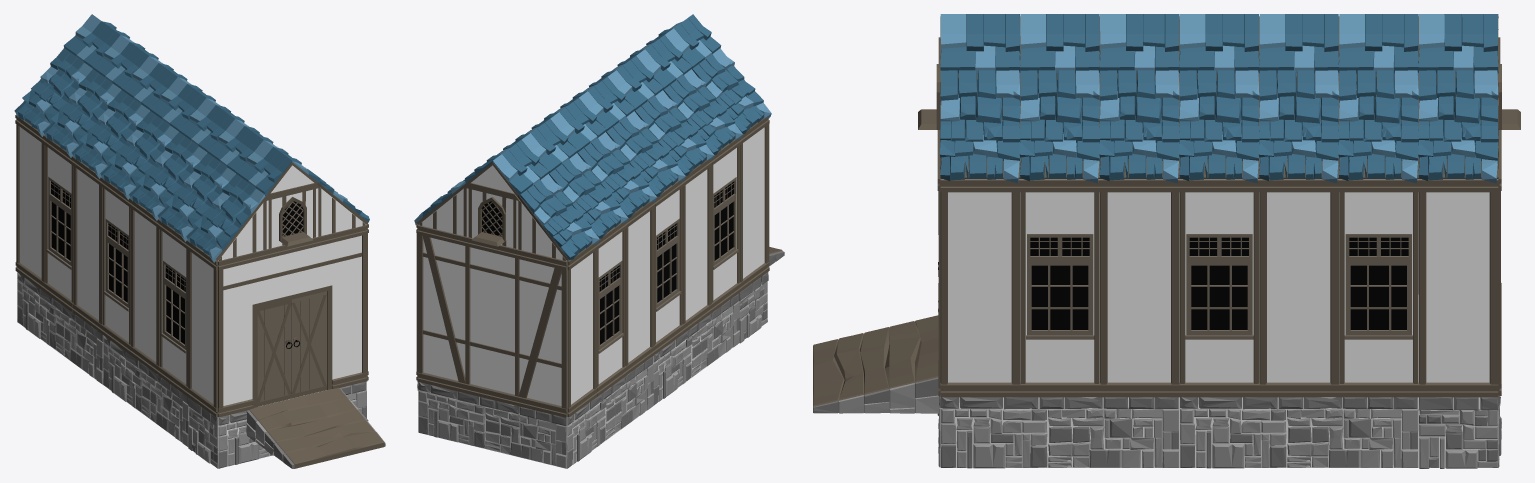
Rendered from House_04_full.fbx.
3 views of the same model, side by side, from view 1: azimuth 30°, elevation 25°; view 2: azimuth 150°, elevation 25°; view 3: azimuth 270°, elevation 25° (orthographic). The views are drawn at different scales.
Parts seen in each view (by area): view 1: DOOR_03_2, STAIRS_05_3, WALL_03_7, WALL_03_9, WALL_03_10, WINDOW_04_7, WINDOW_04_8, WALL_03_8, WINDOW_04_6, FOUNDATION_02_16, FOUNDATION_02_15, ROOF_base_16 (+20 smaller); view 2: WALL_02_2, FOUNDATION_02_17, WALL_03_10, WALL_03_8, WALL_03_9, WALL_03_7, WINDOW_04_8, WINDOW_04_7, FOUNDATION_02_16, WINDOW_04_6, FOUNDATION_02_15, ROOF_base_10 (+19 smaller); view 3: WINDOW_04_4, WALL_03_3, WALL_03_6, WALL_03_5, WINDOW_04_5, WINDOW_04_3, WALL_03_4, FOUNDATION_02_18, FOUNDATION_02_19, STAIRS_05_3, ROOF_base_9, ROOF_base_6 (+15 smaller).
Boxes of the visible parts, x1,y1,x2,y2 form: DOOR_03_2: [218, 225, 367, 417]; STAIRS_05_3: [246, 387, 385, 468]; WALL_03_7: [187, 240, 217, 417]; WALL_03_9: [72, 156, 102, 332]; WALL_03_10: [15, 114, 45, 291]; WINDOW_04_7: [101, 177, 131, 354]; WINDOW_04_8: [44, 136, 73, 312]; WALL_03_8: [130, 198, 159, 374]; WINDOW_04_6: [158, 219, 188, 395]; FOUNDATION_02_16: [17, 272, 103, 384]; FOUNDATION_02_15: [103, 335, 189, 446]; ROOF_base_16: [186, 174, 267, 262]; WALL_02_2: [417, 225, 567, 417]; FOUNDATION_02_17: [418, 382, 566, 468]; WALL_03_10: [567, 243, 597, 417]; WALL_03_8: [682, 159, 712, 333]; WALL_03_9: [625, 201, 654, 374]; WALL_03_7: [740, 117, 769, 291]; WINDOW_04_8: [596, 222, 626, 396]; WINDOW_04_7: [654, 180, 683, 354]; FOUNDATION_02_16: [566, 356, 653, 468]; WINDOW_04_6: [711, 138, 741, 312]; FOUNDATION_02_15: [653, 293, 739, 405]; ROOF_base_10: [517, 174, 599, 260]; WINDOW_04_4: [1179, 179, 1259, 397]; WALL_03_3: [940, 179, 1020, 397]; WALL_03_6: [1418, 179, 1498, 397]; WALL_03_5: [1259, 179, 1338, 397]; WINDOW_04_5: [1339, 179, 1418, 397]; WINDOW_04_3: [1020, 179, 1099, 397]; WALL_03_4: [1100, 179, 1179, 397]; FOUNDATION_02_18: [1179, 397, 1418, 468]; FOUNDATION_02_19: [940, 397, 1179, 468]; STAIRS_05_3: [813, 315, 939, 413]; ROOF_base_9: [1418, 70, 1498, 183]; ROOF_base_6: [1178, 68, 1259, 183].
Size of the model in its own units: 320 by 559 by 888.
